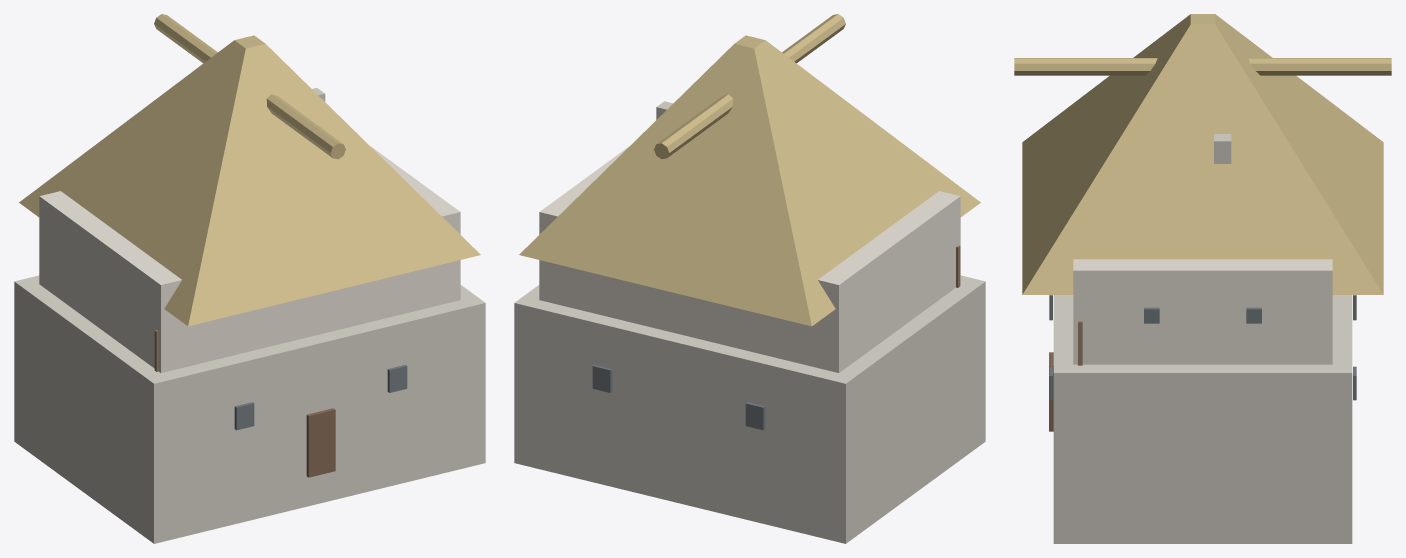
File: french_house_v1.glb
3 views of the same model, side by side, from view 1: azimuth 30°, elevation 25°; view 2: azimuth 150°, elevation 25°; view 3: azimuth 270°, elevation 25° (orthographic). The views are drawn at different scales.
Parts seen in each view (by area): view 1: Cube, Cone, Cube.001, Cylinder, Cube.005; view 2: Cube, Cone, Cube.001, Cylinder; view 3: Cone, Cube, Cube.001, Cylinder, Cube.002.
Part boxes in pixels (box(x1,y1,x2,y2)): Cube: box(14, 275, 485, 543); Cone: box(19, 35, 480, 326); Cube.001: box(39, 145, 460, 372); Cylinder: box(154, 14, 345, 159); Cube.005: box(306, 408, 335, 477); Cube: box(514, 275, 985, 543); Cone: box(519, 35, 980, 326); Cube.001: box(539, 145, 960, 372); Cylinder: box(654, 14, 845, 159); Cone: box(1022, 14, 1383, 294); Cube: box(1053, 295, 1352, 543); Cube.001: box(1073, 259, 1332, 364); Cylinder: box(1014, 58, 1391, 75); Cube.002: box(1214, 134, 1231, 163).
Size of the model in its own units: 5.2 by 6.15 by 4.8.
